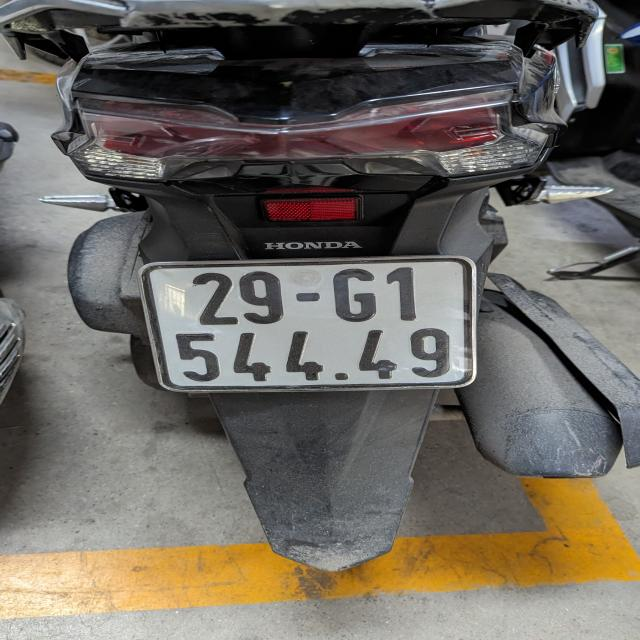License: (137, 254, 478, 393)
